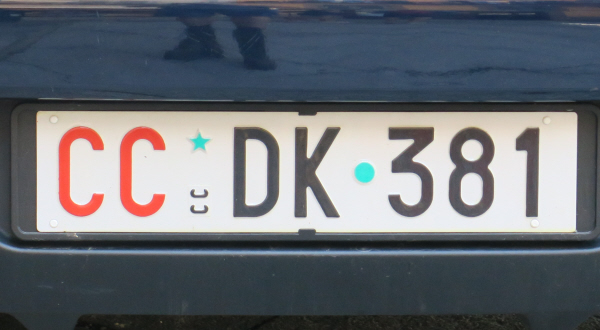license_plate: (34, 108, 579, 232)
